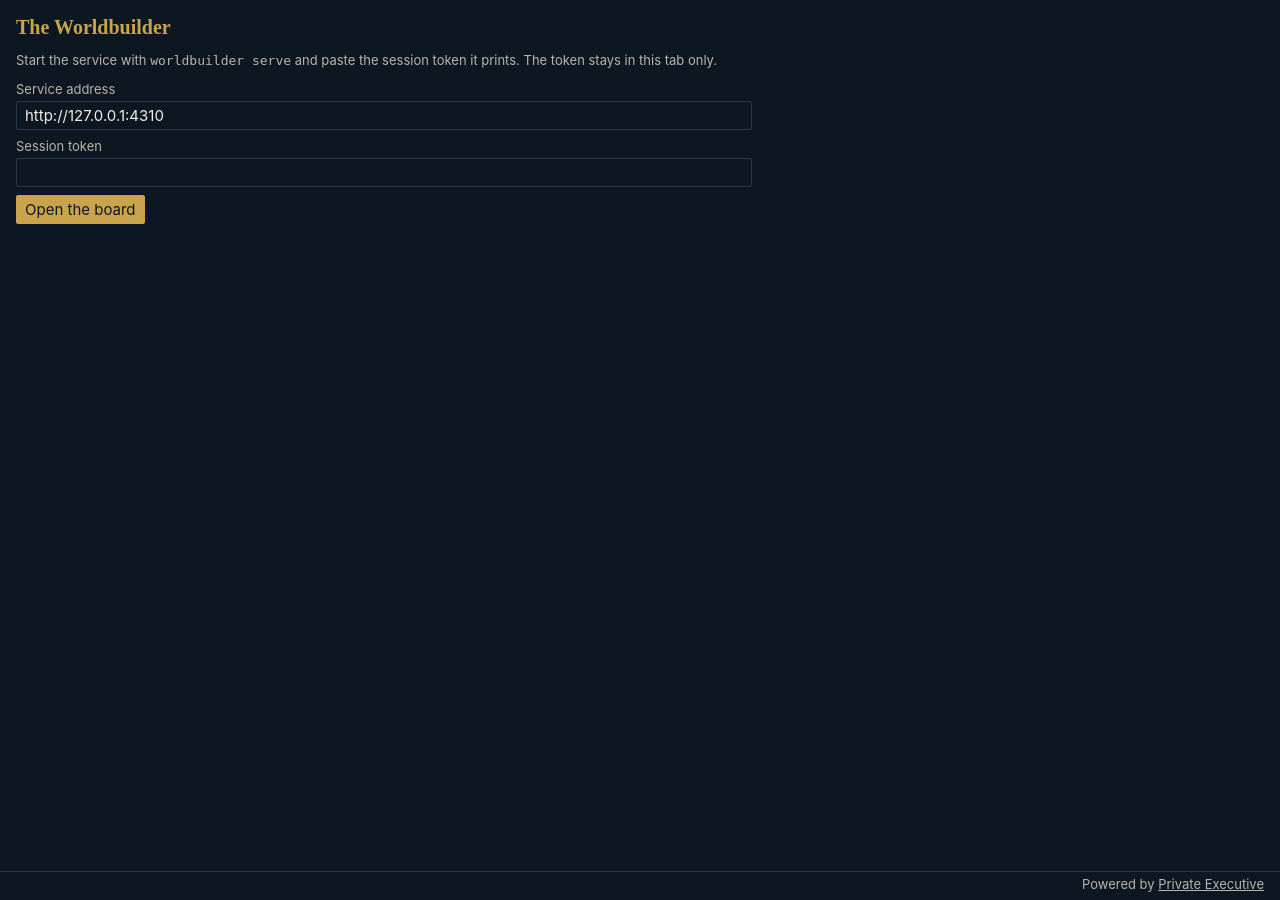
Test: sign in › shows a transport failure instead of failing silently
In the password field with test id "login-token": point(384, 172) x1=16 y1=158 x2=752 y2=187, type "test-session-token"
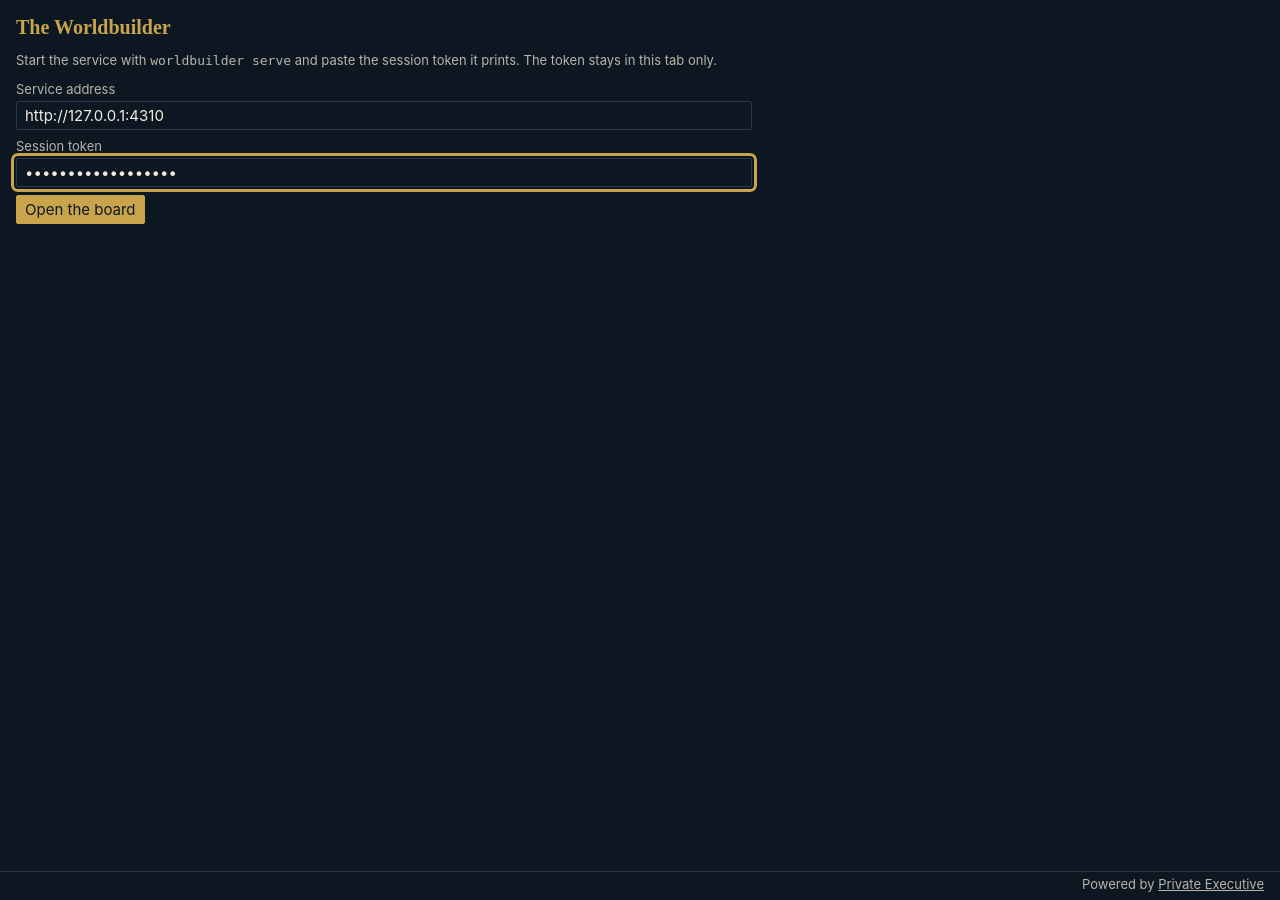
Click the button with test id "login-submit": point(80, 210) x1=16 y1=195 x2=145 y2=224
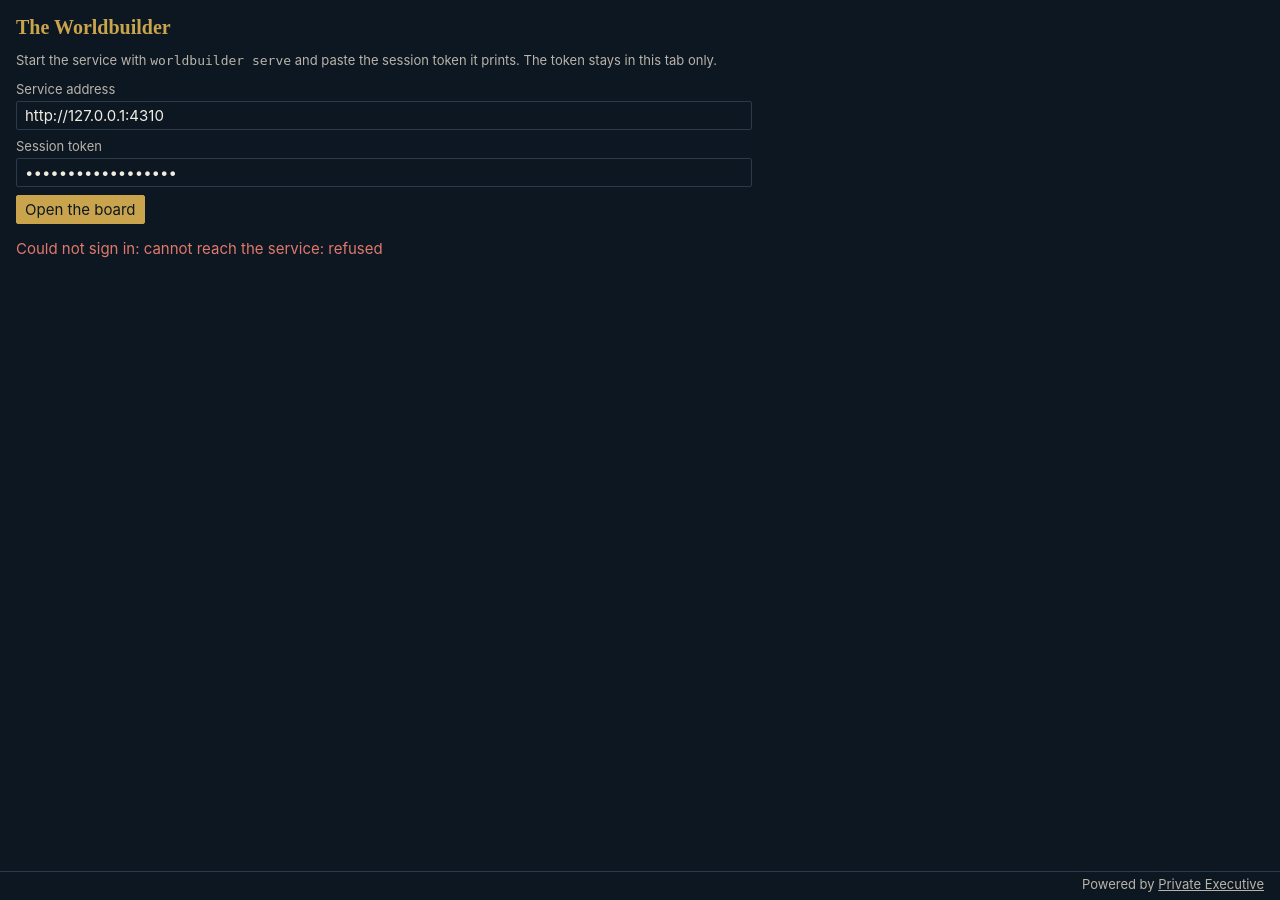
Expected: the message with test id "login-error" shows "refused", x1=16 y1=239 x2=383 y2=258
